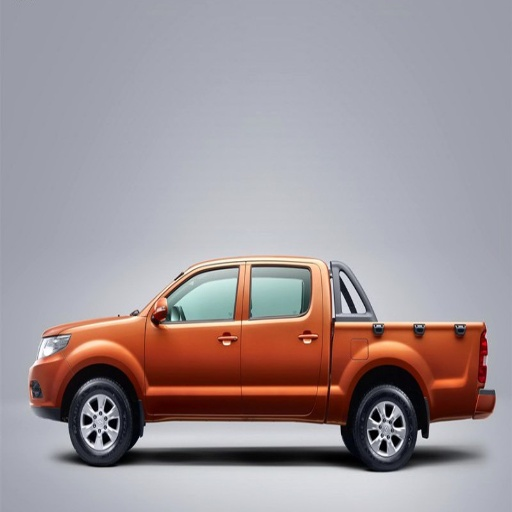back_glass: (244, 262, 328, 411)
front_glass: (149, 263, 245, 410)
front_left_door: (36, 334, 68, 362)
tailgate: (331, 317, 480, 417)
trunk: (70, 378, 136, 465), (351, 385, 417, 470)
